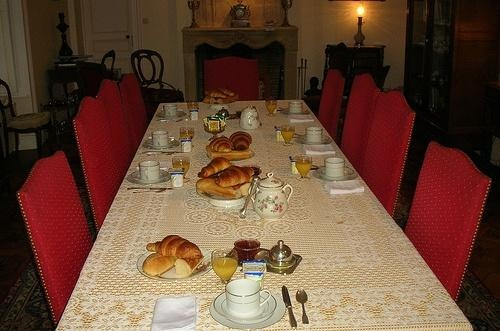chair: (404, 143, 491, 300), (15, 150, 93, 321), (355, 89, 418, 219), (68, 94, 126, 229), (92, 81, 136, 176), (1, 81, 52, 159), (341, 76, 380, 170), (128, 47, 181, 107), (200, 56, 263, 99), (316, 67, 348, 138), (117, 73, 143, 141)
diningtable: (56, 97, 475, 331)
